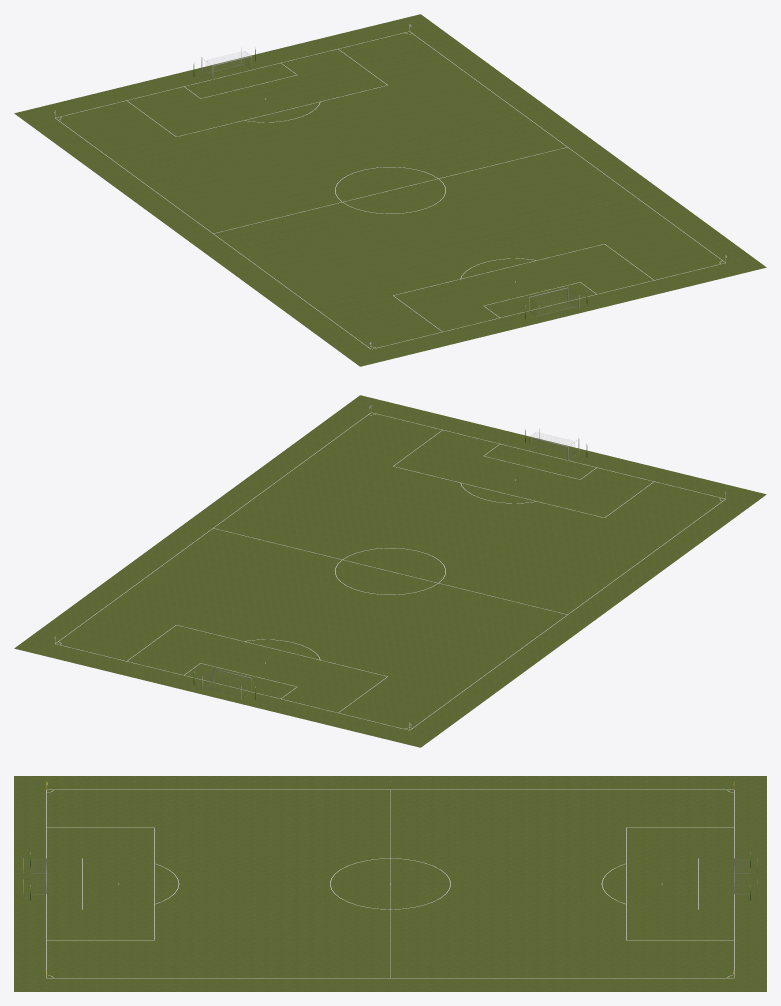
The model's file is soccer_ground_fifa_size.glb.
3 renders of one model, top to bottom at view 1: azimuth 30°, elevation 25°; view 2: azimuth 150°, elevation 25°; view 3: azimuth 270°, elevation 25°, orthographic. The views are drawn at different scales.
Visible parts, largest first — view 1: 0_Lawn_0, CentreCircleAndLine_1; view 2: 0_Lawn_0, CentreCircleAndLine_1; view 3: 0_Lawn_0, CentreCircleAndLine_1.
Boxes of the visible parts, <box> form: 0_Lawn_0: <box>14,14,766,366</box>; CentreCircleAndLine_1: <box>55,31,725,349</box>; 0_Lawn_0: <box>14,395,766,747</box>; CentreCircleAndLine_1: <box>55,412,725,730</box>; 0_Lawn_0: <box>14,776,766,991</box>; CentreCircleAndLine_1: <box>46,789,734,978</box>.
Bounding box in the file's own units: 78 × 2.61 × 115.
Materials: 9 (2 with a texture image).
